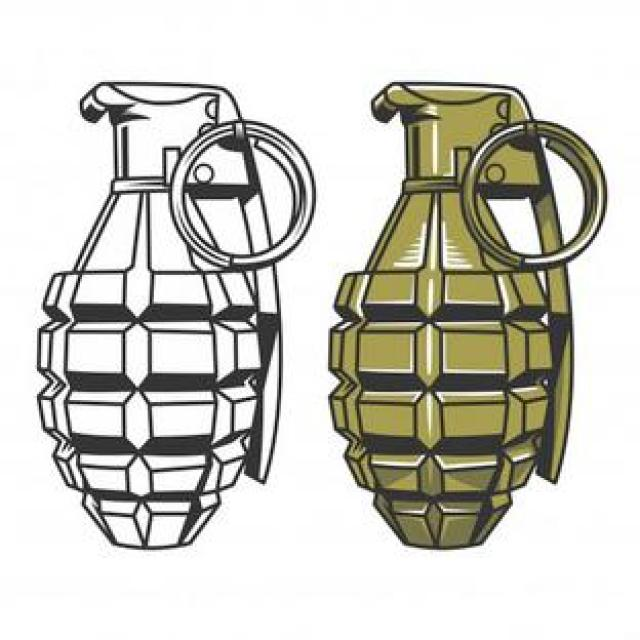grenade: (327, 83, 609, 554), (38, 81, 320, 551)
